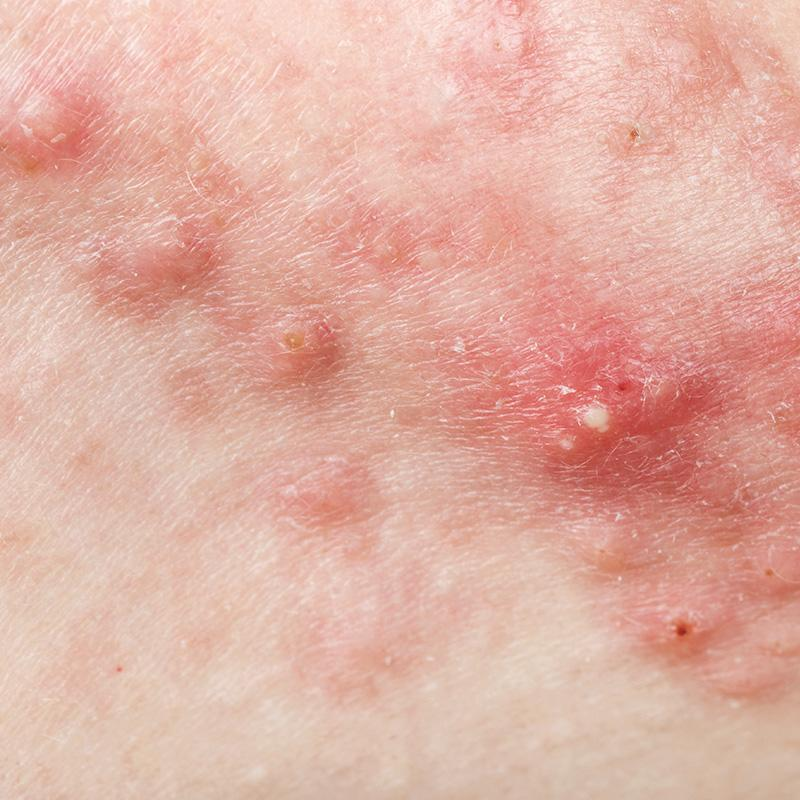cystic: (10, 55, 103, 193)
papular: (272, 328, 356, 402), (660, 600, 734, 673)
sebo-crystan-conglo: (536, 344, 725, 500)
